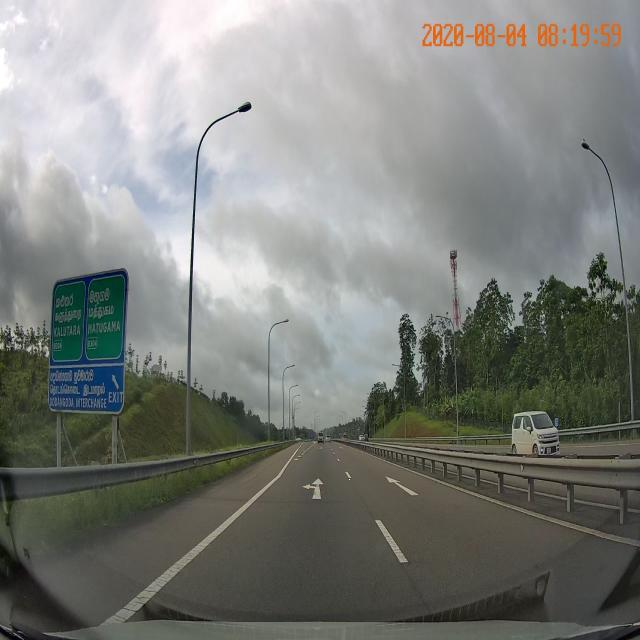forward_lft: (239, 461, 375, 512)
